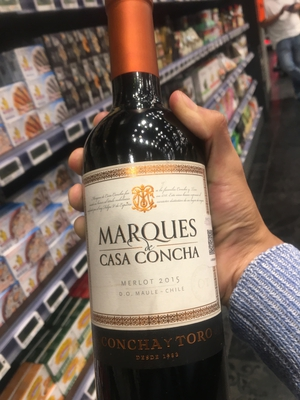marques de casa concha merlot: (68, 17, 233, 400)
